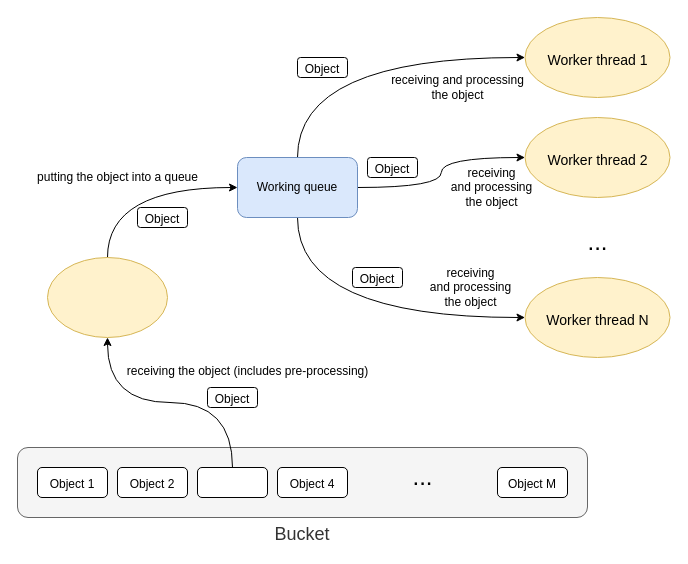
This 688x564 diagram has some shape labels left out. The shapes that lost their labels are listed below. From the top down, each one's centre as x and y in pixels, then its label:
At pixel 107 297: "Coordinator thread".
At pixel 232 482: "Object 3".
